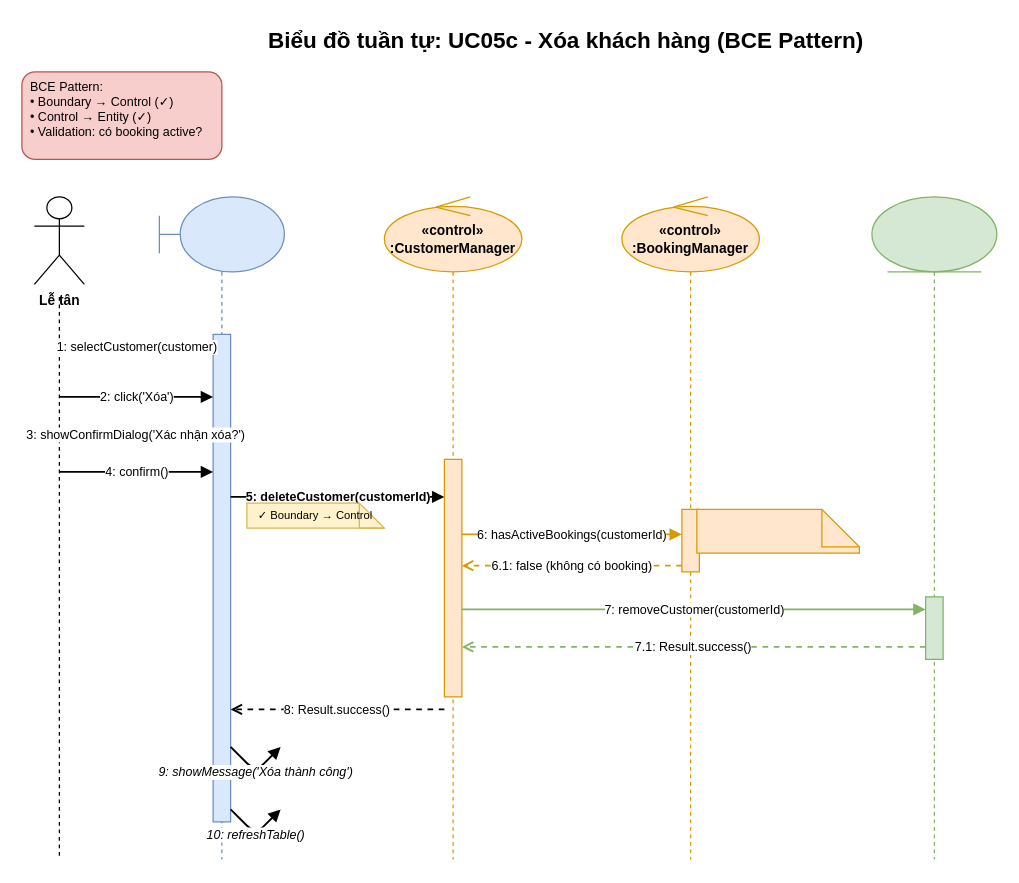
This 1019x883 diagram has some shape labels left out. Each missing label, with the box of its shape:
«boundary» :CustomerPanel: (158, 196, 284, 272)
«entity» :DataStorage: (871, 196, 997, 272)
✓ Chỉ xóa khi không có booking đang active: (696, 508, 859, 553)
